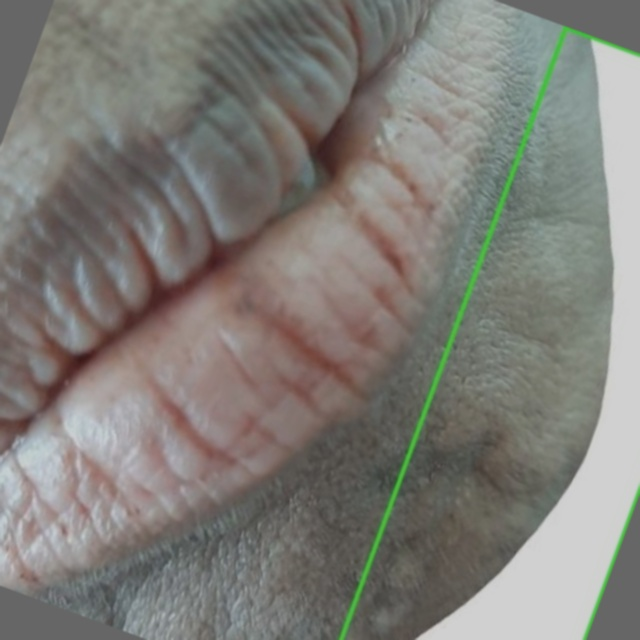Eczema: (341, 27, 639, 639)
